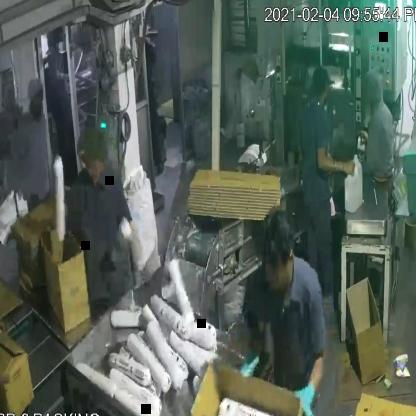glove: (288, 376, 323, 416)
no_glove: (315, 140, 368, 191)
